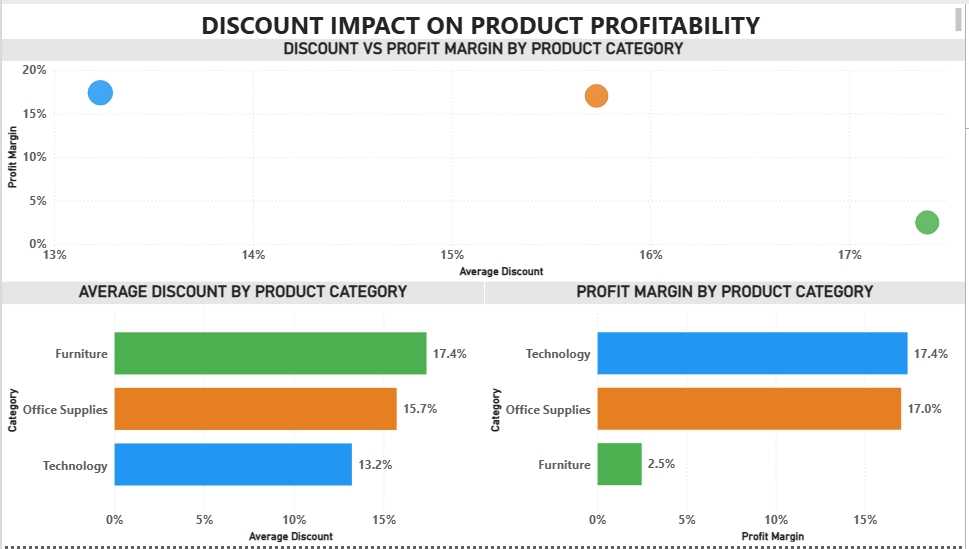

What the dashboard file says about the page in this screenshot:
{"tool":"powerbi","page":{"name":"Discount Impact on Product Profitability","canvas":[1280,720],"ordinal":2},"visuals":[{"type":"scatterChart","title":"DISCOUNT VS PROFIT MARGIN BY PRODUCT CATEGORY","fields":{"Category":["Orders.Category"],"X":["Orders.Average Discount"],"Y":["Orders.Profit Margin"],"Size":["Orders.Total Sales"]},"box":[0,46,1280,322],"z":0},{"type":"clusteredBarChart","title":"AVERAGE DISCOUNT BY PRODUCT CATEGORY","fields":{"Y":["Orders.Average Discount"],"Category":["Orders.Category"]},"box":[0,368.5,640.6,351.5],"z":1000},{"type":"clusteredBarChart","title":"PROFIT MARGIN BY PRODUCT CATEGORY","fields":{"Y":["Orders.Profit Margin"],"Category":["Orders.Category"]},"box":[641,369,638,351],"z":2000},{"type":"textbox","box":[0,0,1280,46],"z":3000}]}

Visuals, with their boxes in screenshot pixels (x1, y1, x2, y2), scaled from the page's 1280x720 canvas onto the 969x549 screenshot:
"DISCOUNT VS PROFIT MARGIN BY PRODUCT CATEGORY" scatterChart: 0 35 968 281
"AVERAGE DISCOUNT BY PRODUCT CATEGORY" clusteredBarChart: 0 281 485 548
"PROFIT MARGIN BY PRODUCT CATEGORY" clusteredBarChart: 485 281 968 548
textbox: 0 0 968 35
